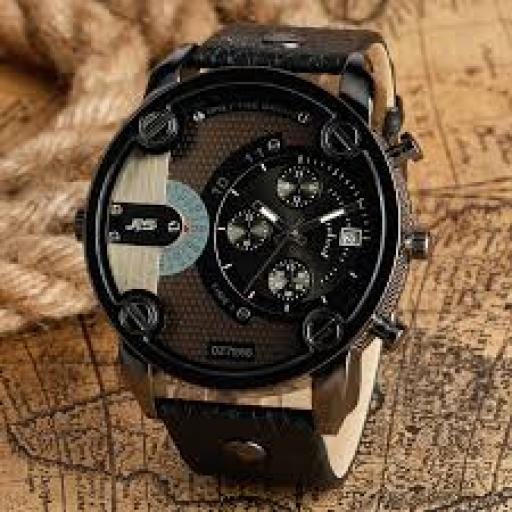KolSaati: (63, 9, 419, 491)
